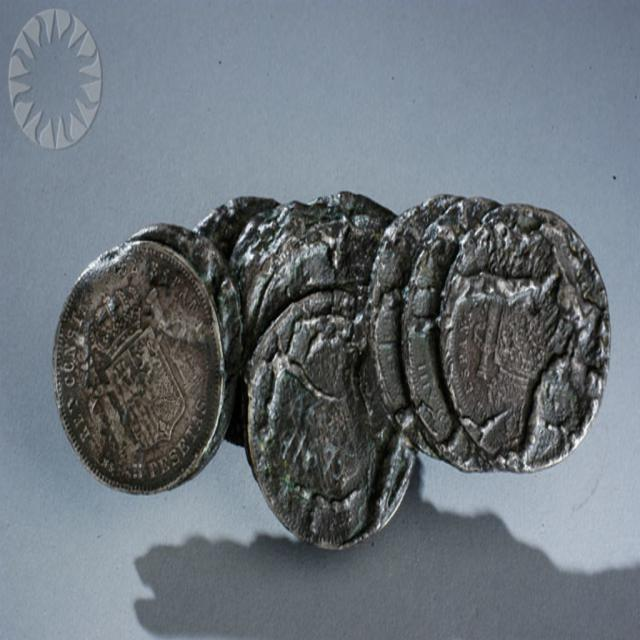Coin: (49, 191, 609, 559)
